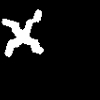single_crochet: (2, 10, 43, 56)
